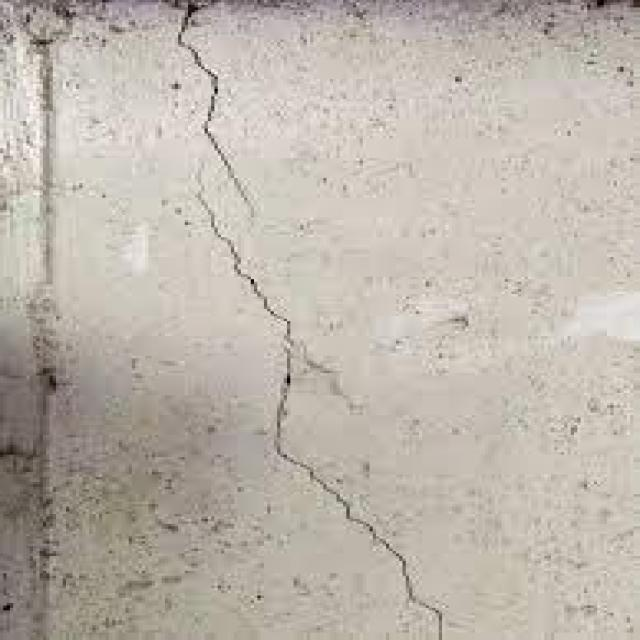Crack: (224, 360, 452, 632), (141, 0, 293, 358)
